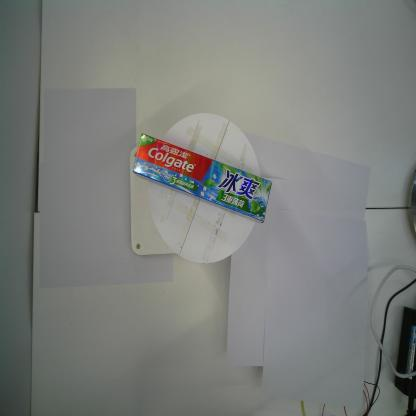Personal Hygiene: (132, 132, 273, 223)
